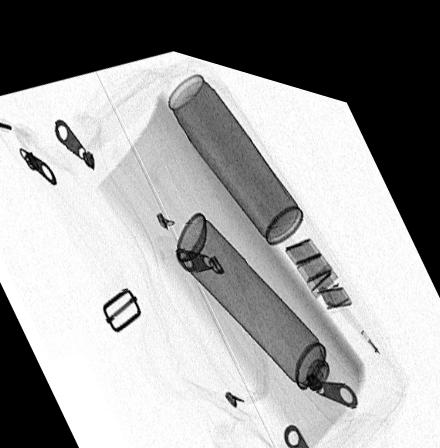Sprayer: (175, 198, 360, 402)
